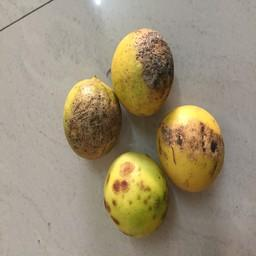Bad_lime: (161, 101, 226, 196), (110, 146, 169, 243), (115, 27, 174, 118), (66, 75, 119, 159)
